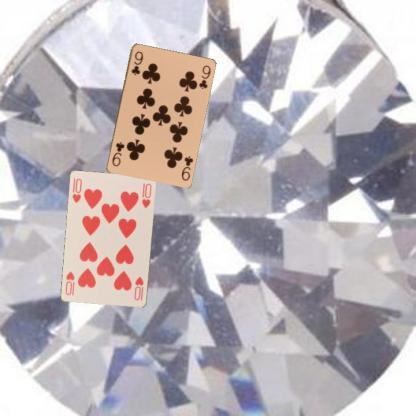10h: (70, 176, 84, 205), (132, 274, 146, 301)
9c: (178, 153, 194, 182), (128, 48, 144, 76)
